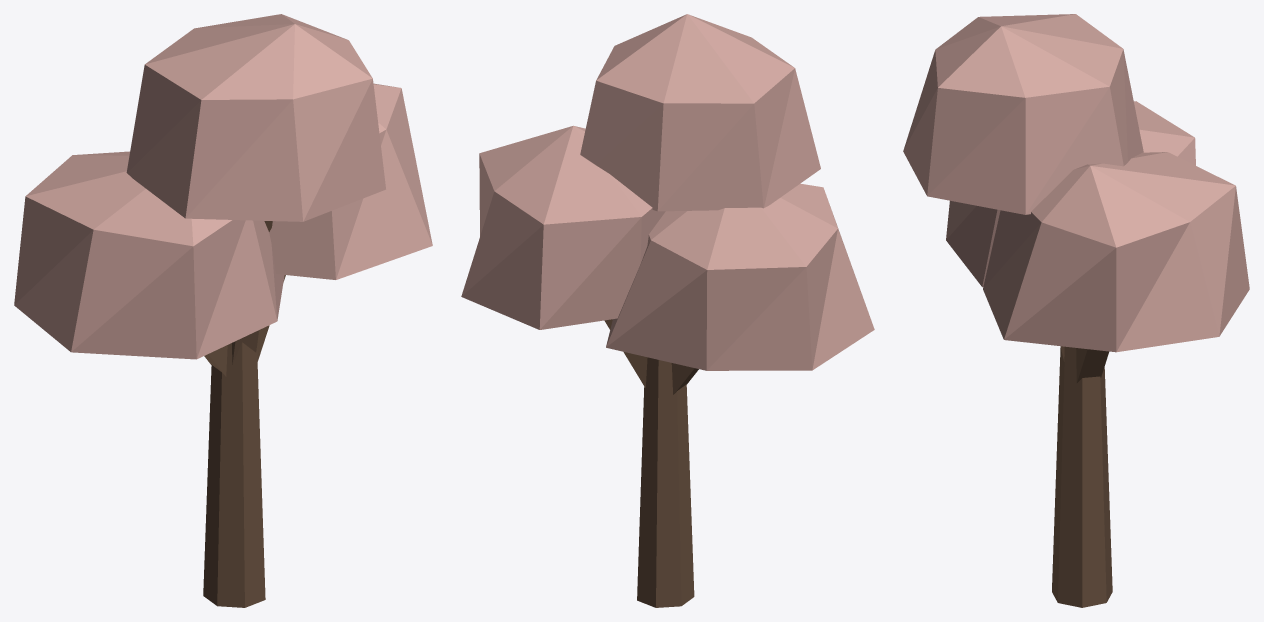
The model's file is Kit_CelestialSummit_Tree_LOD0.glb.
The picture shows the model from 3 angles, left to right: view 1: azimuth 30°, elevation 25°; view 2: azimuth 150°, elevation 25°; view 3: azimuth 270°, elevation 25°; orthographic projection. The views are drawn at different scales.
Visible parts, largest first — view 1: Kit_CelestialSummit_Tree_LOD0_CelestialSummit_leaf_-1_-1, Kit_CelestialSummit_Tree_LOD0_Warm timber_-1_0, Kit_CelestialSummit_Tree_LOD0_CelestialSummit_leaf_0_0; view 2: Kit_CelestialSummit_Tree_LOD0_CelestialSummit_leaf_-1_-1, Kit_CelestialSummit_Tree_LOD0_CelestialSummit_leaf_0_0, Kit_CelestialSummit_Tree_LOD0_Warm timber_-1_0; view 3: Kit_CelestialSummit_Tree_LOD0_CelestialSummit_leaf_0_0, Kit_CelestialSummit_Tree_LOD0_CelestialSummit_leaf_-1_-1, Kit_CelestialSummit_Tree_LOD0_Warm timber_-1_0, Kit_CelestialSummit_Tree_LOD0_Warm timber_0_0.
Boxes of the visible parts, <box> form: Kit_CelestialSummit_Tree_LOD0_CelestialSummit_leaf_-1_-1: <box>14,14,385,359</box>; Kit_CelestialSummit_Tree_LOD0_Warm timber_-1_0: <box>203,342,265,607</box>; Kit_CelestialSummit_Tree_LOD0_CelestialSummit_leaf_0_0: <box>269,83,432,279</box>; Kit_CelestialSummit_Tree_LOD0_CelestialSummit_leaf_-1_-1: <box>580,14,874,370</box>; Kit_CelestialSummit_Tree_LOD0_CelestialSummit_leaf_0_0: <box>461,125,665,329</box>; Kit_CelestialSummit_Tree_LOD0_Warm timber_-1_0: <box>637,357,698,607</box>; Kit_CelestialSummit_Tree_LOD0_CelestialSummit_leaf_0_0: <box>983,152,1249,352</box>; Kit_CelestialSummit_Tree_LOD0_CelestialSummit_leaf_-1_-1: <box>903,14,1195,287</box>; Kit_CelestialSummit_Tree_LOD0_Warm timber_-1_0: <box>1052,346,1112,607</box>; Kit_CelestialSummit_Tree_LOD0_Warm timber_0_0: <box>1076,348,1108,383</box>.
Size of the model in its own units: 17.91 by 26.9 by 14.66.
